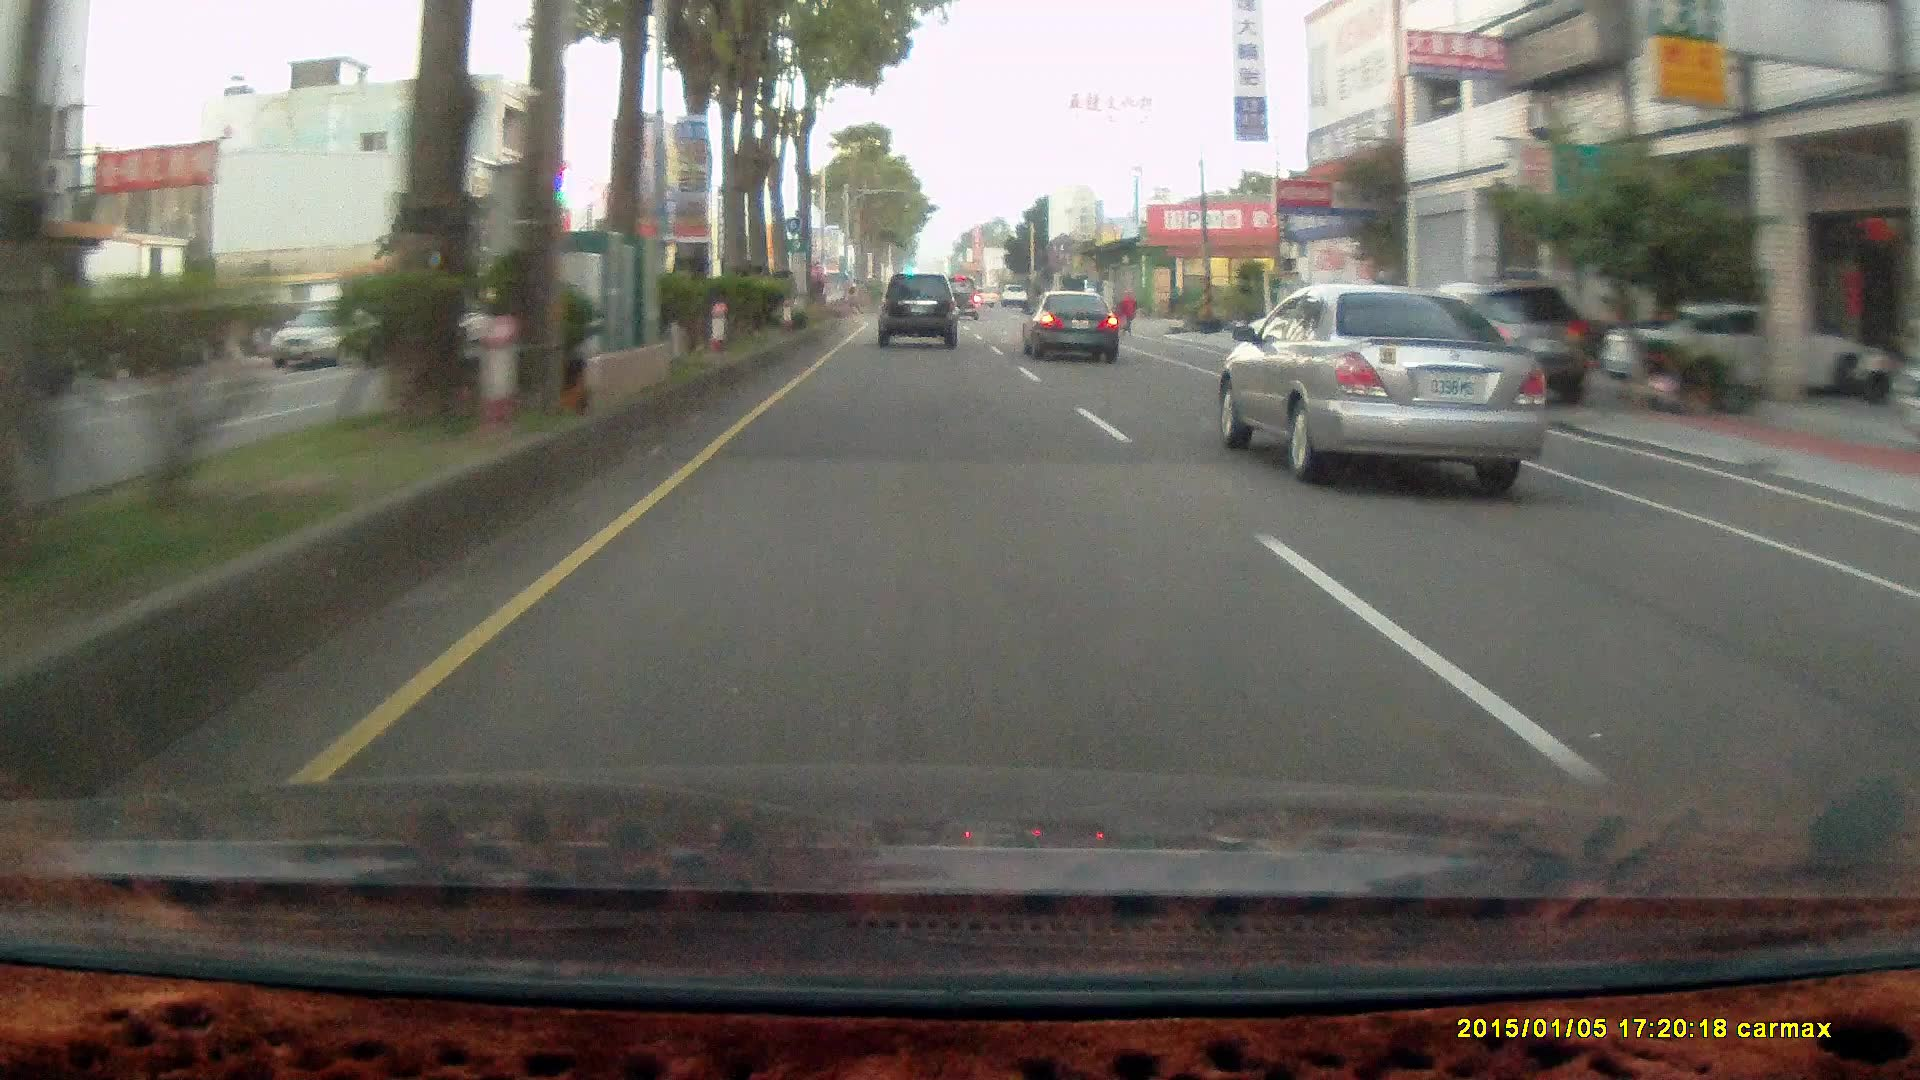pedestrian: (1118, 289, 1138, 335)
vehicle: (1218, 291, 1545, 480), (1368, 284, 1580, 415), (1396, 284, 1608, 414), (1595, 305, 1886, 400), (269, 302, 395, 373), (1021, 292, 1123, 369), (268, 302, 385, 367), (1020, 288, 1118, 363), (875, 273, 962, 353), (875, 274, 956, 349), (940, 281, 982, 326)
